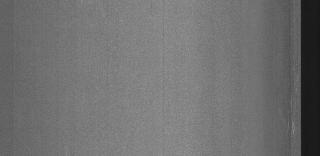silk spot: (276, 100, 300, 138)
